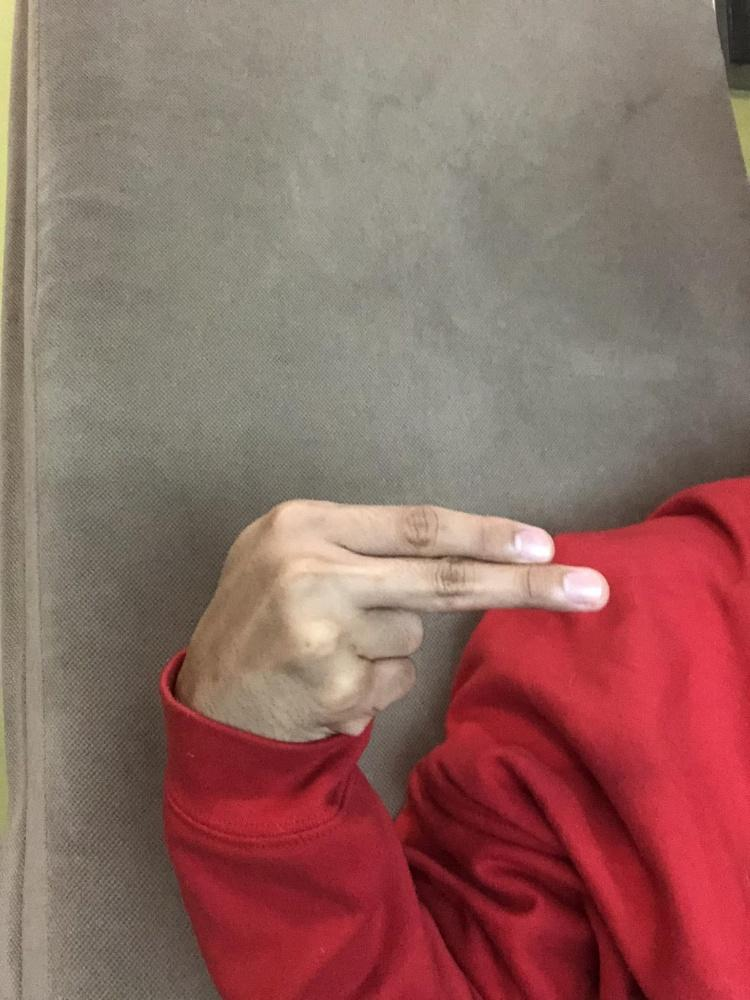h: (183, 494, 614, 748)
